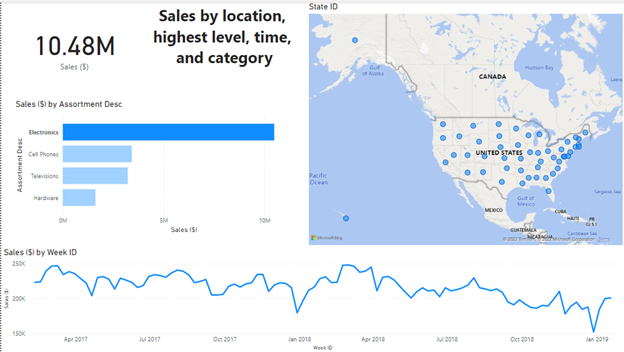

The page's visual inventory and layout, read from the dashboard file:
{"tool":"powerbi","page":{"name":"Page 1","canvas":[1280,720],"ordinal":0},"visuals":[{"type":"card","fields":{"Values":["Sum(Geo Data.Sales ($))"]},"box":[10.2,0,280.1,186.7],"z":0},{"type":"barChart","fields":{"Category":["Assortment Details.Assortment Desc"],"Y":["Sum(Geo Data.Sales ($))"]},"box":[23.8,200.3,616.2,280.1],"z":1},{"type":"map","fields":{"Category":["Geo Data.State ID"]},"box":[626.4,0,653.6,504.2],"z":2},{"type":"lineChart","fields":{"Y":["Sum(In-Stock Data.Sales ($))"],"Category":["In-Stock Data.Week ID"]},"box":[0,504.2,1280,215.6],"z":3},{"type":"textbox","box":[290,0,336,187],"z":4}]}

Visuals, with their boxes in screenshot pixels (x1, y1, x2, y2), scaled from the page's 1280x720 canvas onto the 624x352 screenshot:
card - Sum(Geo Data.Sales ($)): crop(5, 0, 142, 91)
barChart - Assortment Details.Assortment Desc x Sum(Geo Data.Sales ($)): crop(12, 98, 312, 235)
map - Geo Data.State ID: crop(305, 0, 623, 246)
lineChart - Sum(In-Stock Data.Sales ($)) x In-Stock Data.Week ID: crop(0, 246, 623, 351)
textbox: crop(141, 0, 305, 91)
